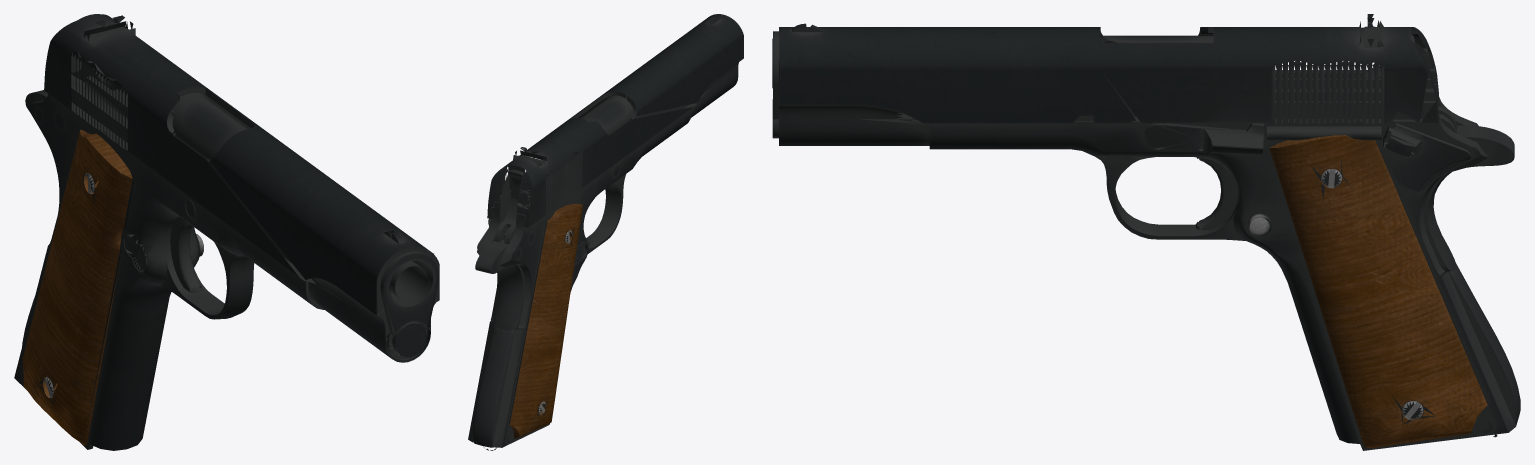
3 views of the same model, side by side, from view 1: azimuth 30°, elevation 25°; view 2: azimuth 150°, elevation 25°; view 3: azimuth 270°, elevation 25° (orthographic). The views are drawn at different scales.
Parts seen in each view (by area): view 1: m_1911_base, m_1911_bolt_01; view 2: m_1911_base, m_1911_bolt_01, m_1911_bolt_02; view 3: m_1911_base, m_1911_bolt_01.
Boxes of the visible parts, <box> form: m_1911_base: <box>14,51,433,450</box>; m_1911_bolt_01: <box>44,14,439,362</box>; m_1911_base: <box>468,95,691,450</box>; m_1911_bolt_01: <box>487,14,743,227</box>; m_1911_bolt_02: <box>494,169,523,244</box>; m_1911_base: <box>772,35,1520,450</box>; m_1911_bolt_01: <box>772,14,1438,145</box>.
Bounding box in the file's own units: 0.0672 × 0.3079 × 0.5001.
Materials: 1 (1 with a texture image).
